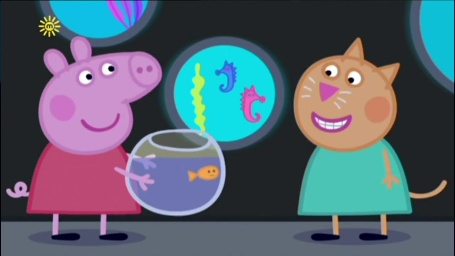Peppa: (5, 35, 165, 247)
